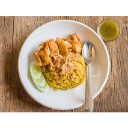briyani: (37, 40, 86, 85)
